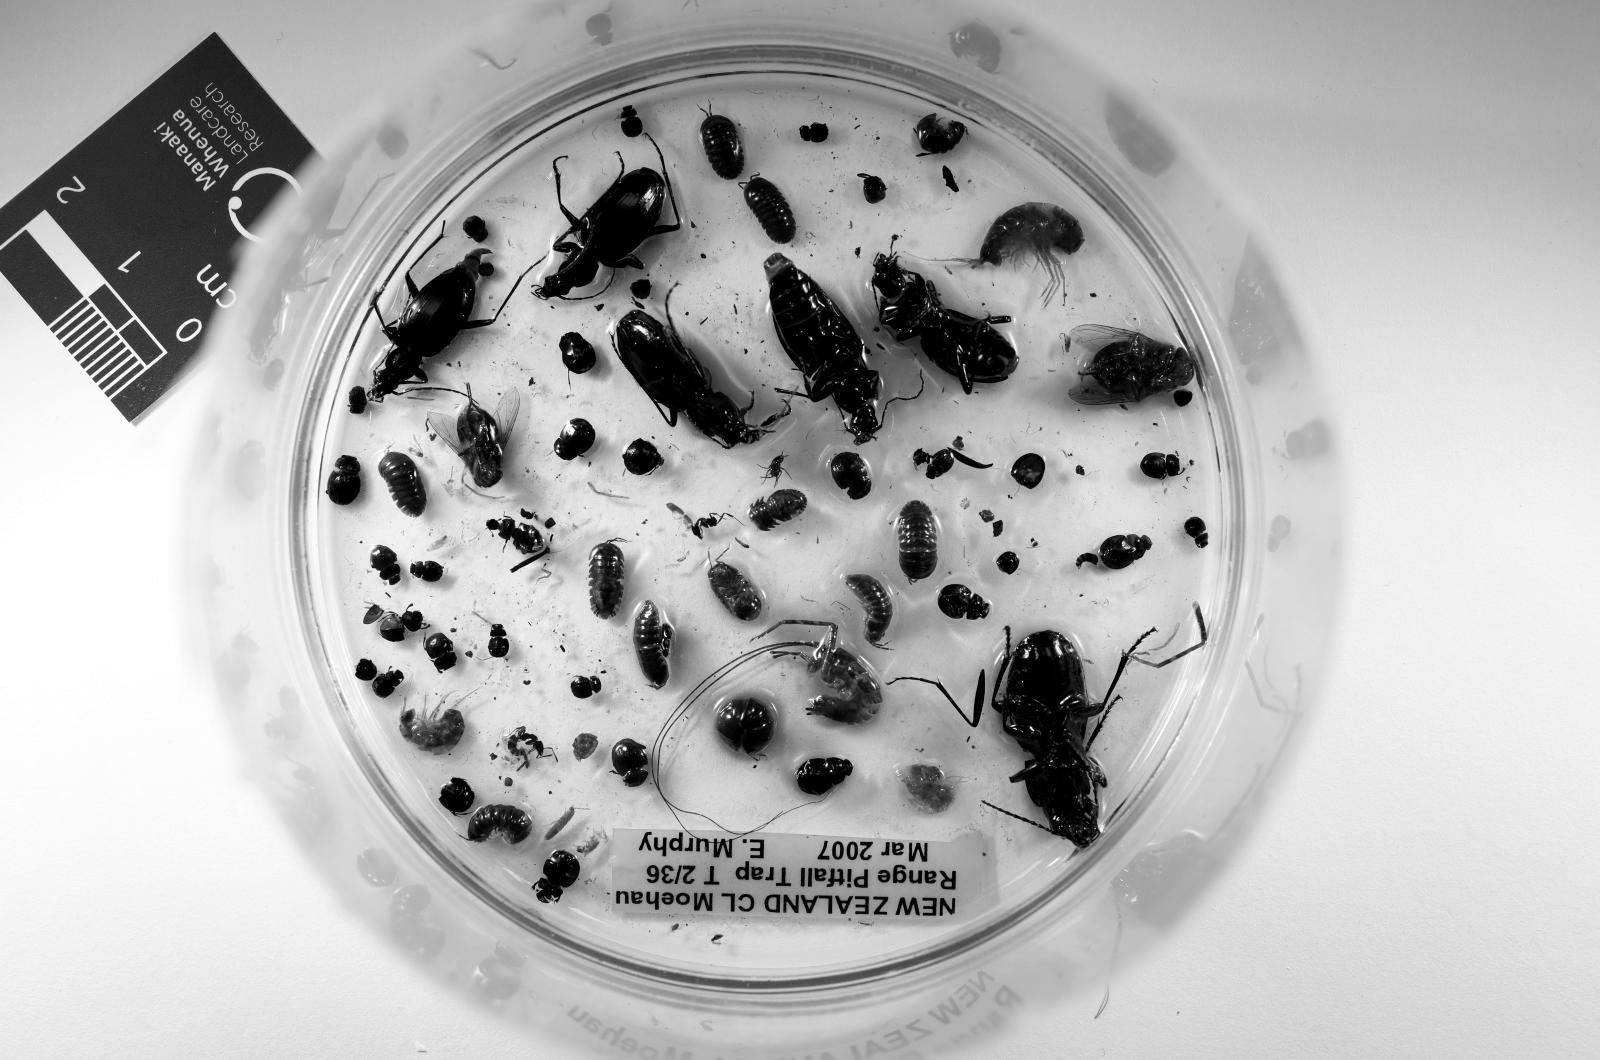amphipoda: (953, 202, 1084, 307), (400, 702, 466, 755), (900, 764, 956, 814)
carabidae: (994, 634, 1150, 848), (612, 295, 775, 447), (766, 252, 881, 444), (872, 252, 1019, 394), (534, 161, 681, 298), (372, 248, 497, 401)
coleoptera: (1078, 534, 1153, 568), (534, 851, 581, 904), (484, 516, 544, 556), (797, 758, 853, 795), (828, 453, 872, 500), (938, 584, 991, 621), (325, 457, 362, 506), (612, 739, 650, 786), (553, 419, 594, 460), (378, 609, 425, 643), (559, 332, 597, 373), (369, 547, 400, 584), (425, 634, 456, 671), (1141, 453, 1181, 478), (925, 447, 956, 478), (372, 671, 403, 699), (619, 106, 644, 137), (1184, 516, 1209, 547), (462, 214, 488, 242), (488, 624, 509, 658), (409, 562, 444, 581), (347, 385, 369, 413), (572, 677, 600, 699), (800, 124, 828, 143)
collembola: (544, 807, 575, 842), (666, 503, 694, 531)
diptera: (1069, 326, 1194, 404), (428, 388, 519, 488)
formicidae: (506, 727, 544, 758), (691, 512, 728, 537)
isopoda: (744, 174, 797, 245), (897, 500, 938, 584), (847, 575, 894, 646), (706, 562, 762, 621), (716, 699, 775, 755), (378, 450, 428, 516), (634, 599, 669, 689), (700, 112, 744, 180), (591, 540, 625, 618), (469, 804, 531, 845), (750, 491, 806, 531), (912, 115, 966, 155)
orthoptera: (691, 621, 881, 724)
